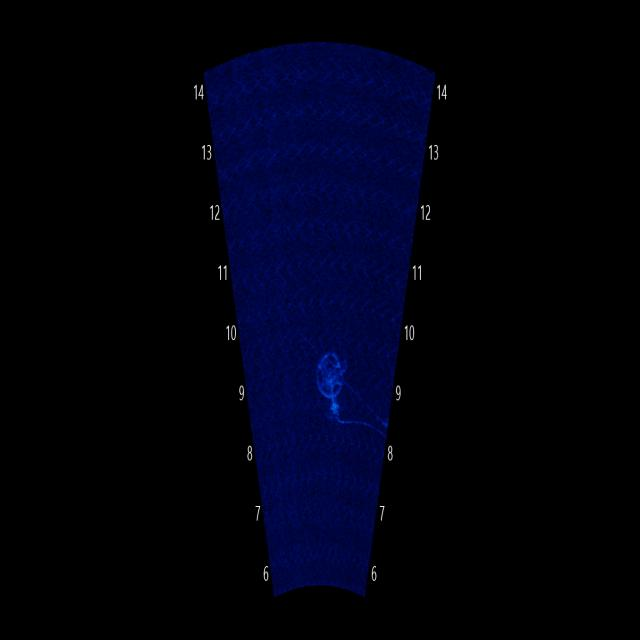circle: (304, 330, 350, 407)
